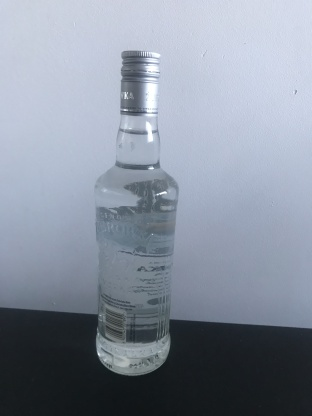nakretka: (119, 47, 161, 119)
